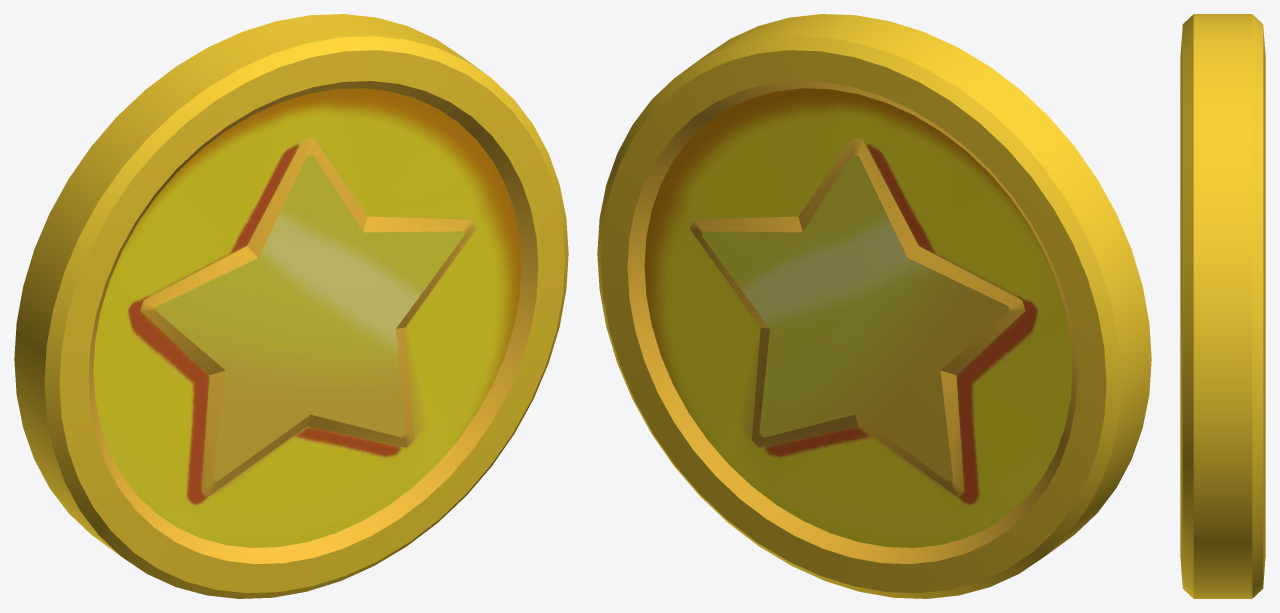
The model's file is Coin (1).fbx.
3 renders of one model, left to right at view 1: azimuth 30°, elevation 25°; view 2: azimuth 150°, elevation 25°; view 3: azimuth 270°, elevation 25°, orthographic. The views are drawn at different scales.
Parts seen in each view (by area): view 1: Coin__1_; view 2: Coin__1_; view 3: Coin__1_.
Part boxes in pixels (x1=…): Coin__1_: x1=14, y1=14, x2=568, y2=598; Coin__1_: x1=597, y1=14, x2=1151, y2=598; Coin__1_: x1=1180, y1=14, x2=1265, y2=598.
Size of the model in its own units: 99 by 99 by 14.38.
